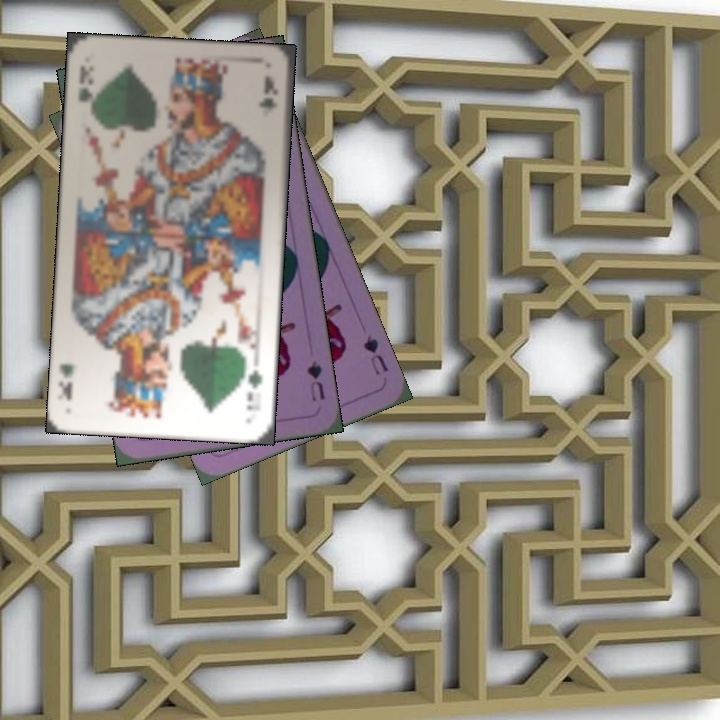GK: (242, 365, 266, 413), (74, 61, 96, 106)
GU: (359, 331, 391, 378), (303, 356, 327, 404)
